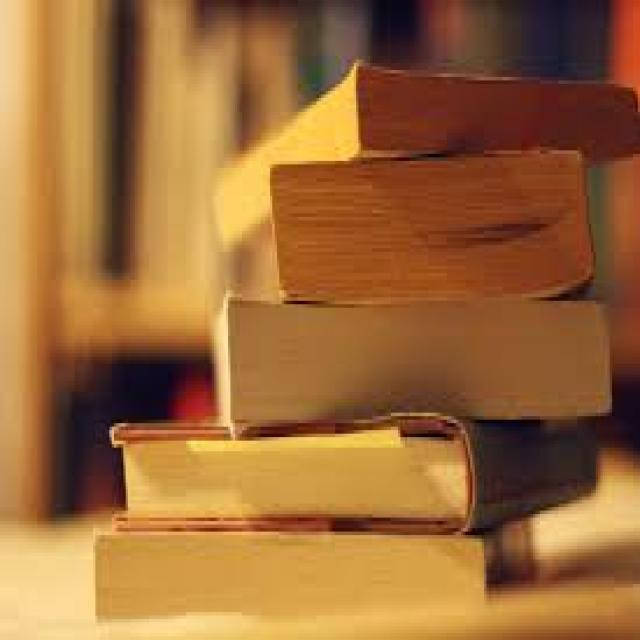paper: (210, 53, 638, 221), (230, 140, 596, 297), (91, 514, 528, 637), (107, 413, 594, 521), (224, 294, 605, 423)
